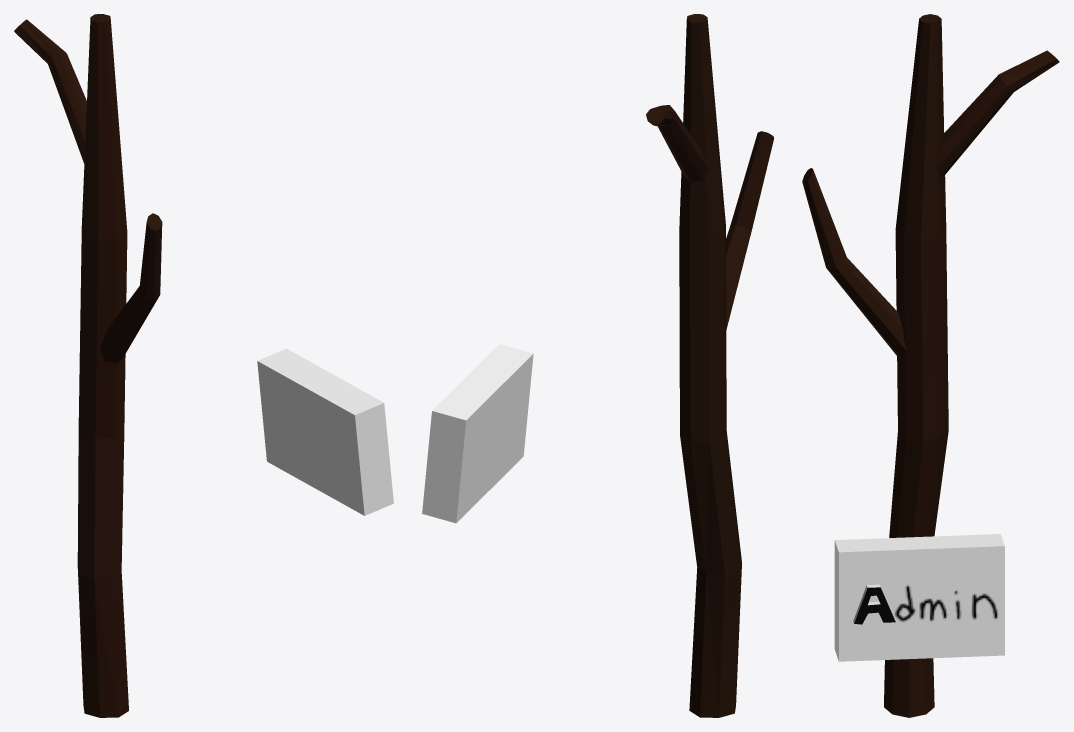
Rendered from MODandADMINcosmetics.fbx.
3 renders of one model, left to right at view 1: azimuth 30°, elevation 25°; view 2: azimuth 150°, elevation 25°; view 3: azimuth 270°, elevation 25°, orthographic. The views are drawn at different scales.
Visible parts, largest first — view 1: stick, ADMINISTRATOR_BADGE; view 2: stick, ADMINISTRATOR_BADGE; view 3: stick, ADMINISTRATOR_BADGE.
Part boxes in pixels (x1=…): stick: x1=14, y1=14, x2=162, y2=717; ADMINISTRATOR_BADGE: x1=257, y1=348, x2=393, y2=515; stick: x1=646, y1=14, x2=773, y2=717; ADMINISTRATOR_BADGE: x1=422, y1=344, x2=533, y2=523; stick: x1=802, y1=14, x2=1059, y2=717; ADMINISTRATOR_BADGE: x1=834, y1=534, x2=1004, y2=661.
Size of the model in its own units: 20.74 by 47.79 by 16.15.
